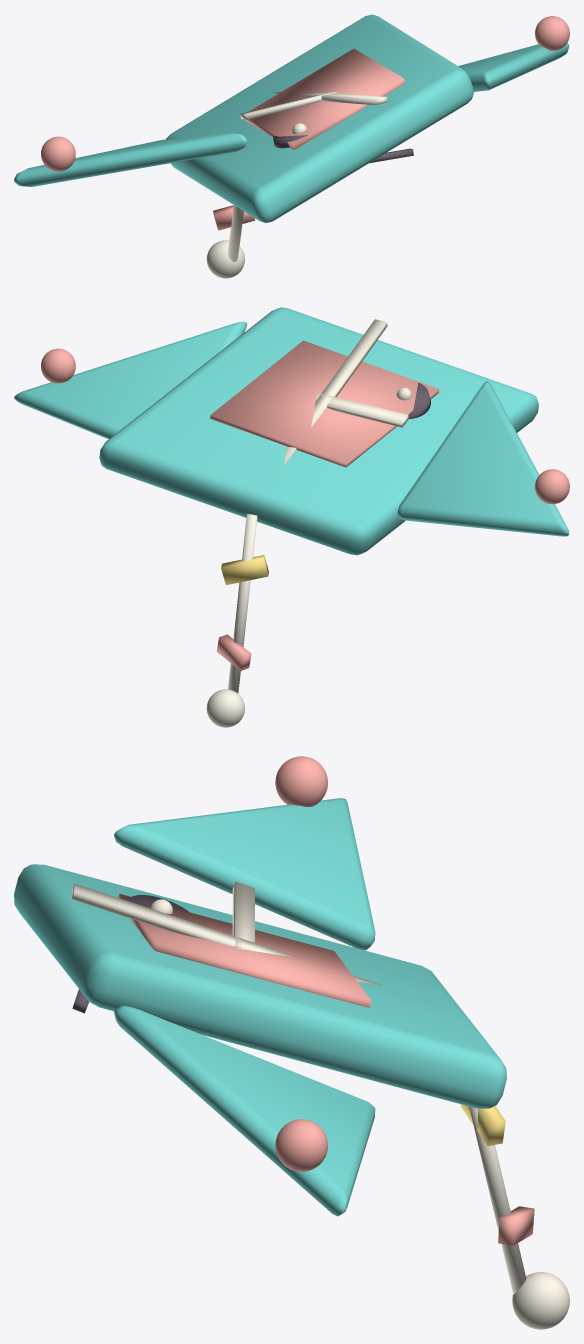
File: flyer_enemy.glb
3 renders of one model, top to bottom at view 1: azimuth 30°, elevation 25°; view 2: azimuth 150°, elevation 25°; view 3: azimuth 270°, elevation 25°, orthographic. The views are drawn at different scales.
Parts seen in each view (by area): view 1: Body, WingL, WingR; view 2: Body, WingL, WingR; view 3: Body, WingL, WingR.
Part boxes in pixels (x1,y1,x2,y2): Body: (166,14,473,278); WingL: (14,133,246,186); WingR: (458,16,569,91); Body: (99,307,538,727); WingL: (397,381,569,536); WingR: (14,321,246,439); Body: (14,864,569,1329); WingL: (114,756,375,950); WingR: (114,1005,375,1216).
Bounding box in the file's own units: 1.17 × 0.5869 × 0.6735.
